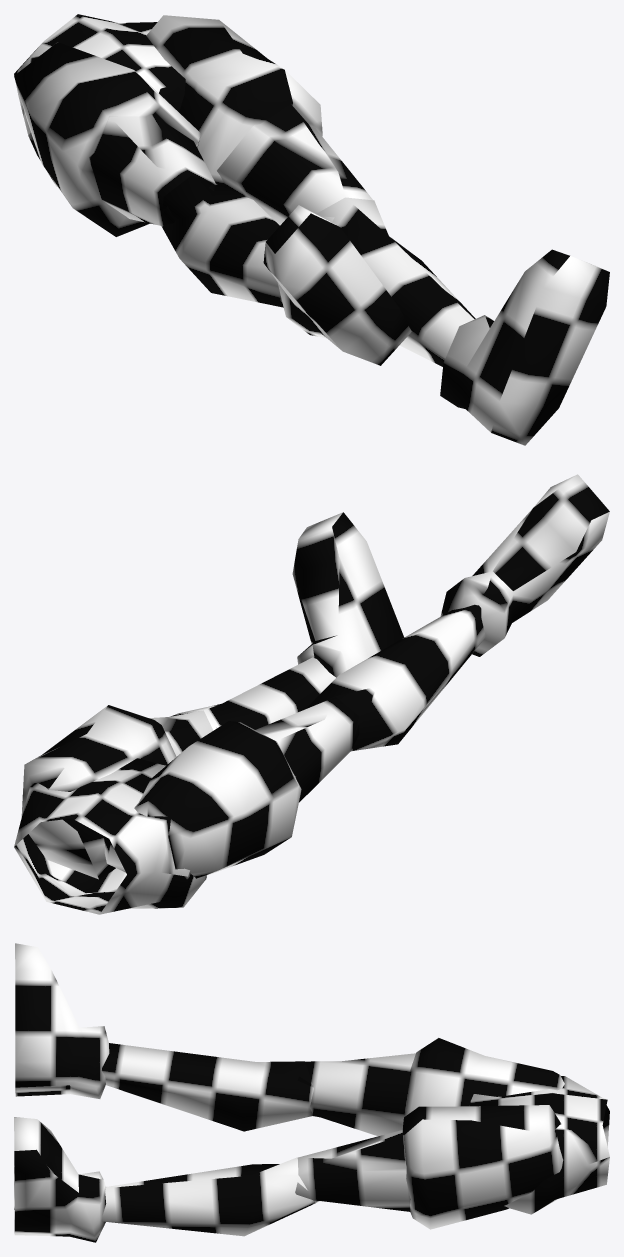
Rendered from initarlg11.dae.
The picture shows the model from 3 angles, top to bottom: view 1: azimuth 30°, elevation 25°; view 2: azimuth 150°, elevation 25°; view 3: azimuth 270°, elevation 25°; orthographic projection. The views are drawn at different scales.
Parts seen in each view (by area): view 1: armor; view 2: armor; view 3: armor.
Part boxes in pixels (x1,y1,x2,y2): armor: [14, 14, 609, 445]; armor: [14, 474, 609, 914]; armor: [14, 943, 609, 1242].
Bounding box in the file's own units: 0.8073 × 1.66 × 0.661.
1 material, 1 textured.
